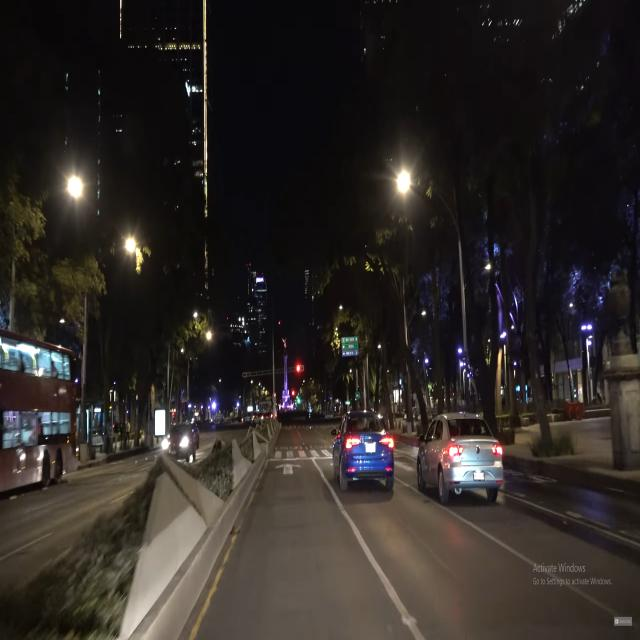headlights: (158, 428, 196, 461)
